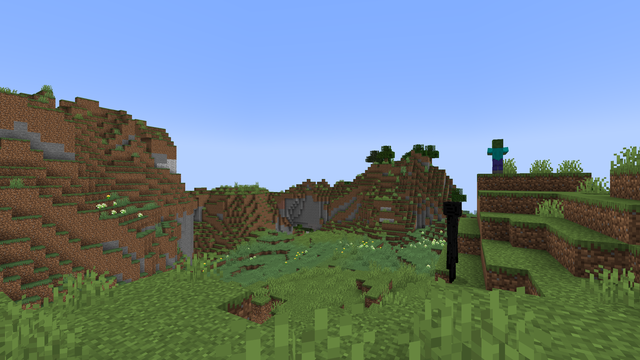endermens: (442, 198, 461, 283)
zombies: (491, 139, 504, 173)
